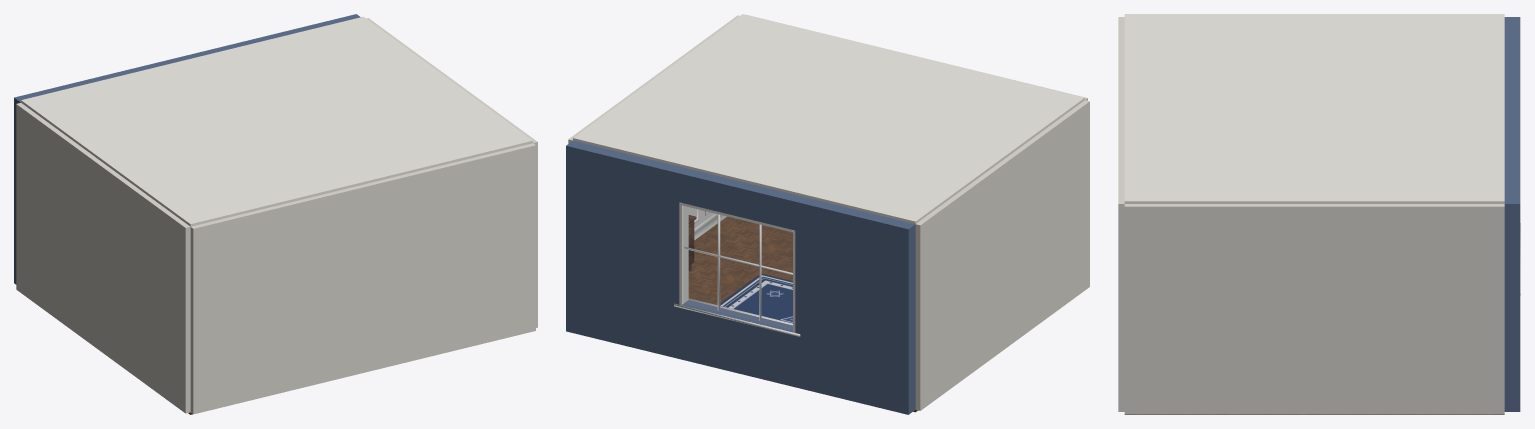
The model's file is room.glb.
The picture shows the model from 3 angles, left to right: view 1: azimuth 30°, elevation 25°; view 2: azimuth 150°, elevation 25°; view 3: azimuth 270°, elevation 25°; orthographic projection. The views are drawn at different scales.
Visible parts, largest first — view 1: Room_Architecture; view 2: Room_Architecture, Window_Glass, HanukkahRug; view 3: Room_Architecture.
Boxes of the visible parts, <box> form: Room_Architecture: <box>14,14,537,414</box>; Room_Architecture: <box>566,14,1089,414</box>; Window_Glass: <box>683,206,792,329</box>; HanukkahRug: <box>720,273,792,323</box>; Room_Architecture: <box>1118,14,1520,414</box>.
Size of the model in its own units: 5.76 by 2.98 by 5.08.
12 materials, 4 textured.
